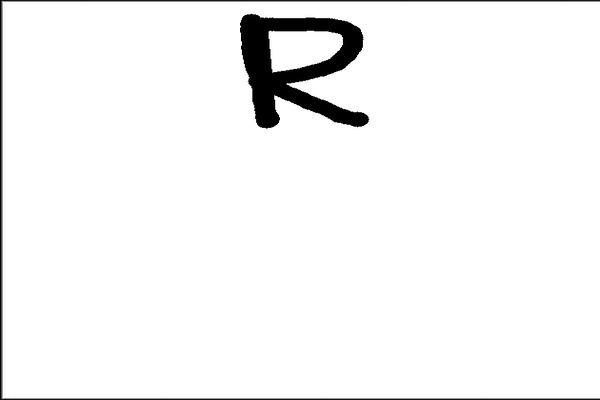R: (223, 9, 383, 142)
